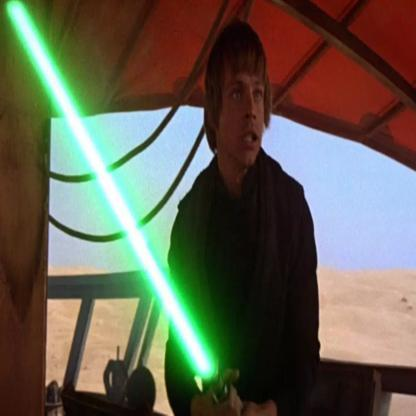lightsaber: (4, 0, 232, 403)
person: (162, 20, 322, 416)
